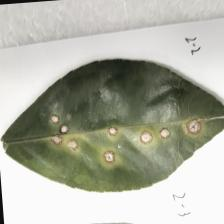canker: (28, 108, 216, 170)
